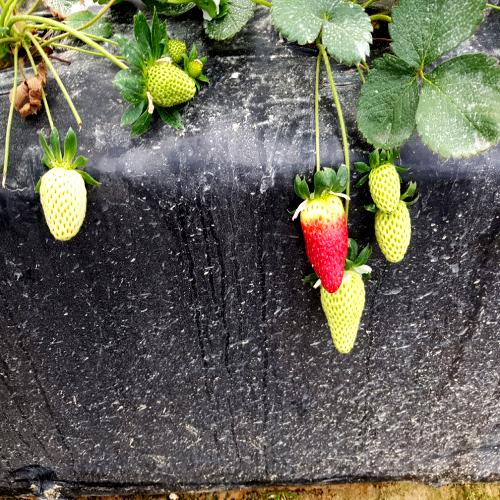partially-ripe: (299, 193, 351, 298)
